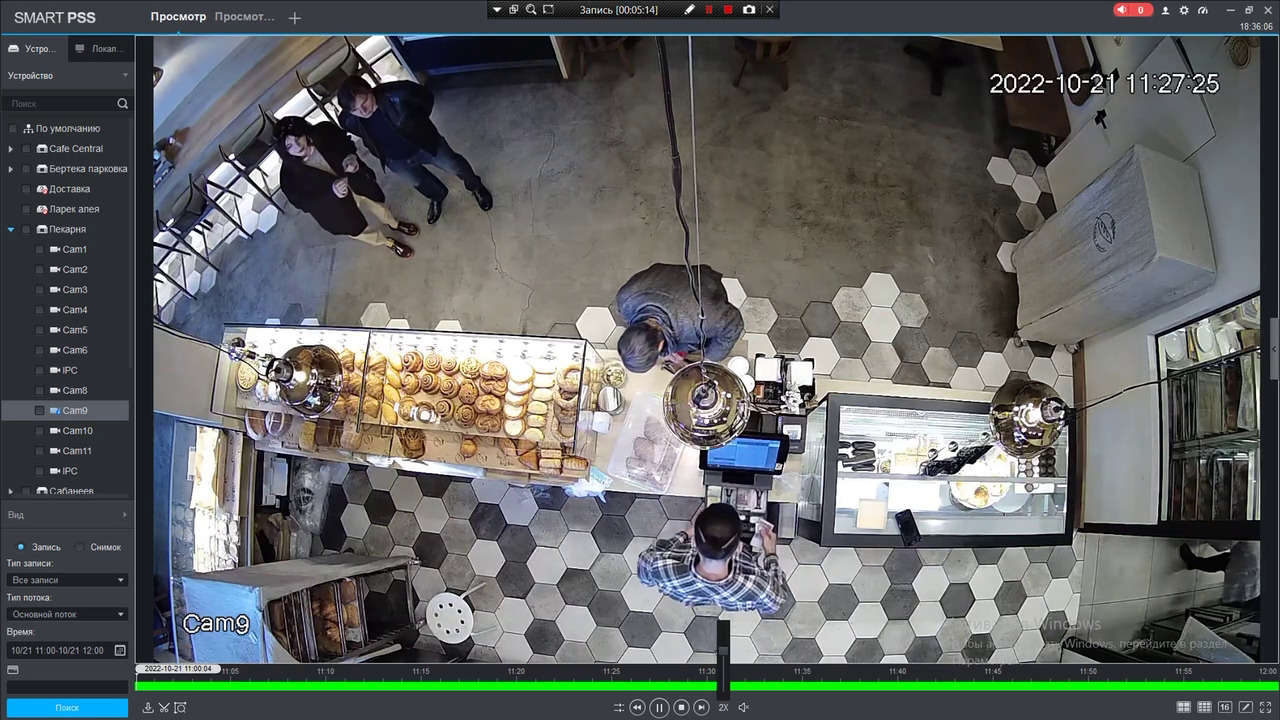barcounter: (211, 334, 1098, 532)
openedcash: (695, 429, 788, 538)
pack: (610, 395, 685, 490)
person: (252, 117, 416, 261), (328, 82, 493, 209), (639, 513, 816, 619), (608, 254, 741, 376)
